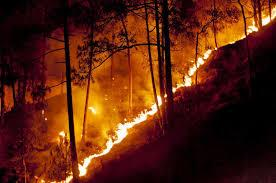fire: (39, 93, 163, 183), (170, 8, 276, 99)
